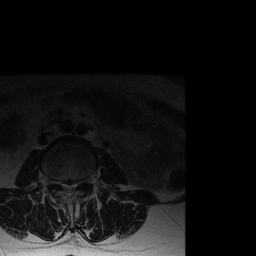CCS_stenosis: (66, 178, 71, 201)
LFS_stenosis: (78, 174, 84, 189)
LLS_stenosis: (71, 178, 77, 195)
RFS_stenosis: (55, 174, 61, 191)
RLS_stenosis: (61, 177, 66, 194)
